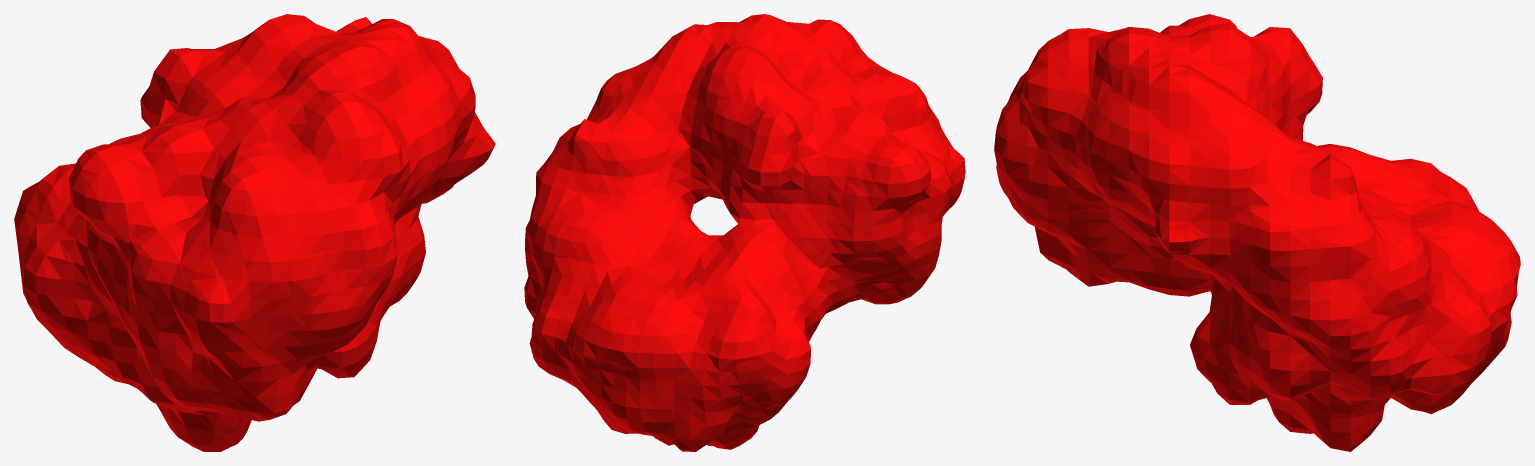
The model's file is iadA_coarse.dae.
3 views of the same model, side by side, from view 1: azimuth 30°, elevation 25°; view 2: azimuth 150°, elevation 25°; view 3: azimuth 270°, elevation 25° (orthographic). The views are drawn at different scales.
Parts seen in each view (by area): view 1: iadA; view 2: iadA; view 3: iadA.
Part boxes in pixels (x1=…): iadA: x1=14, y1=14, x2=495, y2=451; iadA: x1=524, y1=14, x2=965, y2=451; iadA: x1=994, y1=14, x2=1520, y2=451.
Bounding box in the file's own units: 72.39 × 74.37 × 84.87.
